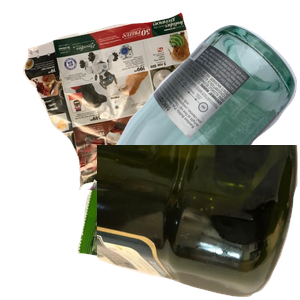glass: (86, 22, 300, 202)
paper: (20, 10, 231, 190)
plastic: (97, 145, 300, 300)
trash: (75, 156, 244, 300)
